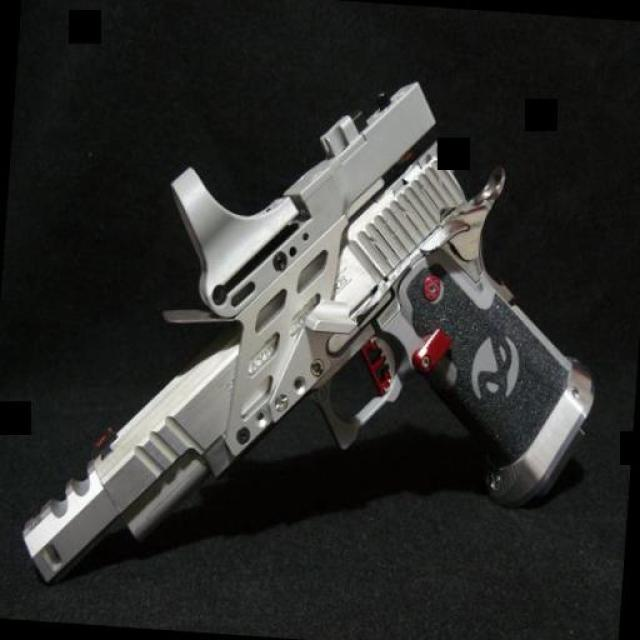gun: (16, 53, 616, 628)
